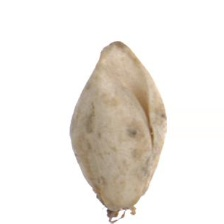L1: (94, 38, 148, 86), (101, 196, 141, 218)
L2: (69, 40, 168, 218)
